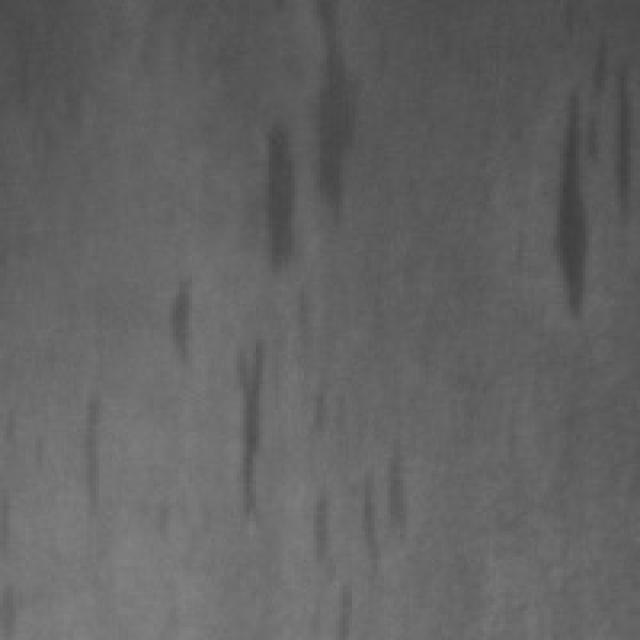inclusion: (531, 74, 605, 336), (291, 442, 426, 576), (291, 0, 368, 230), (211, 323, 285, 525), (230, 112, 301, 275), (57, 371, 121, 531), (141, 262, 211, 378)
